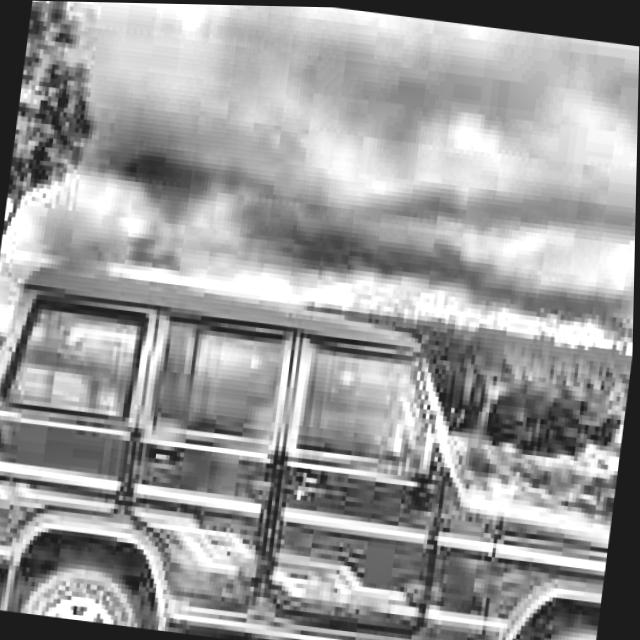light_vehicle: (0, 252, 636, 640)
